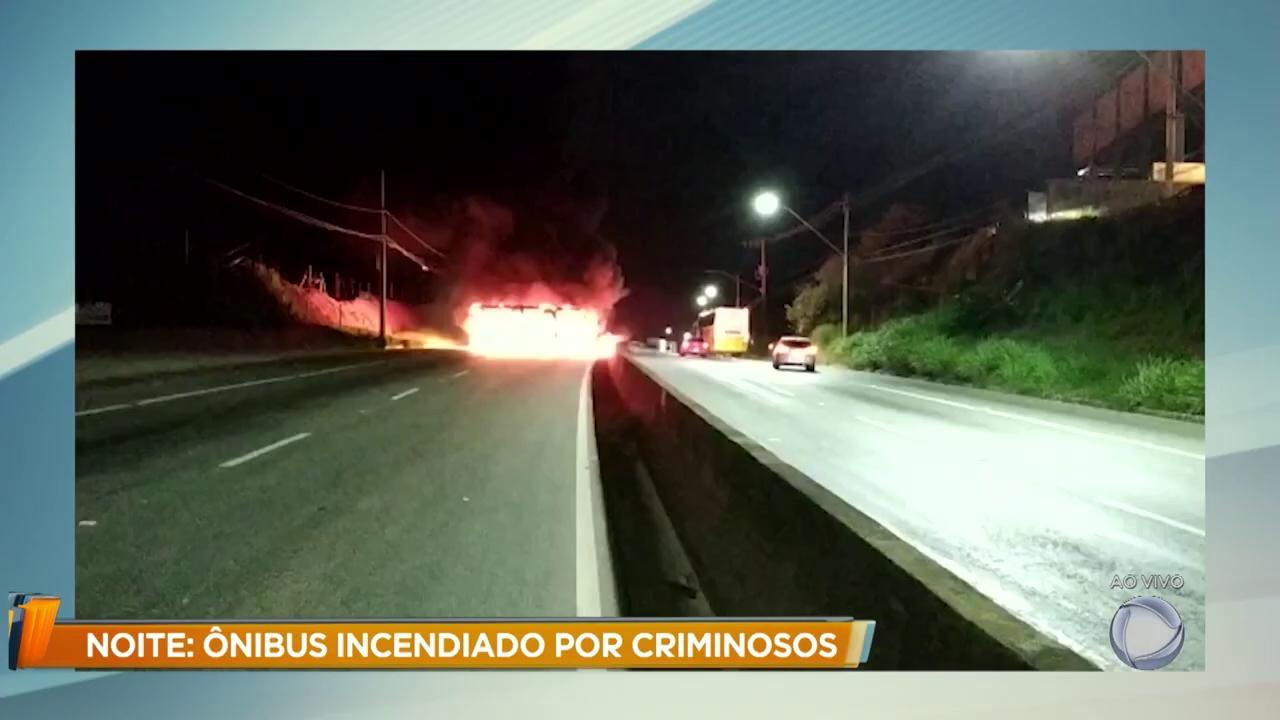fire: (460, 302, 610, 356)
